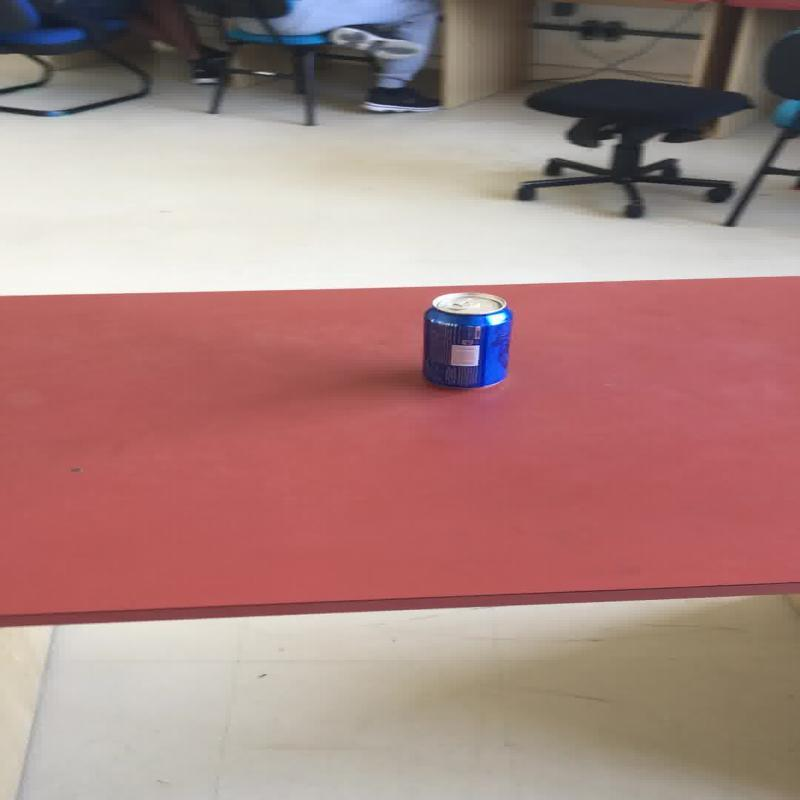tonic: (420, 290, 512, 388)
